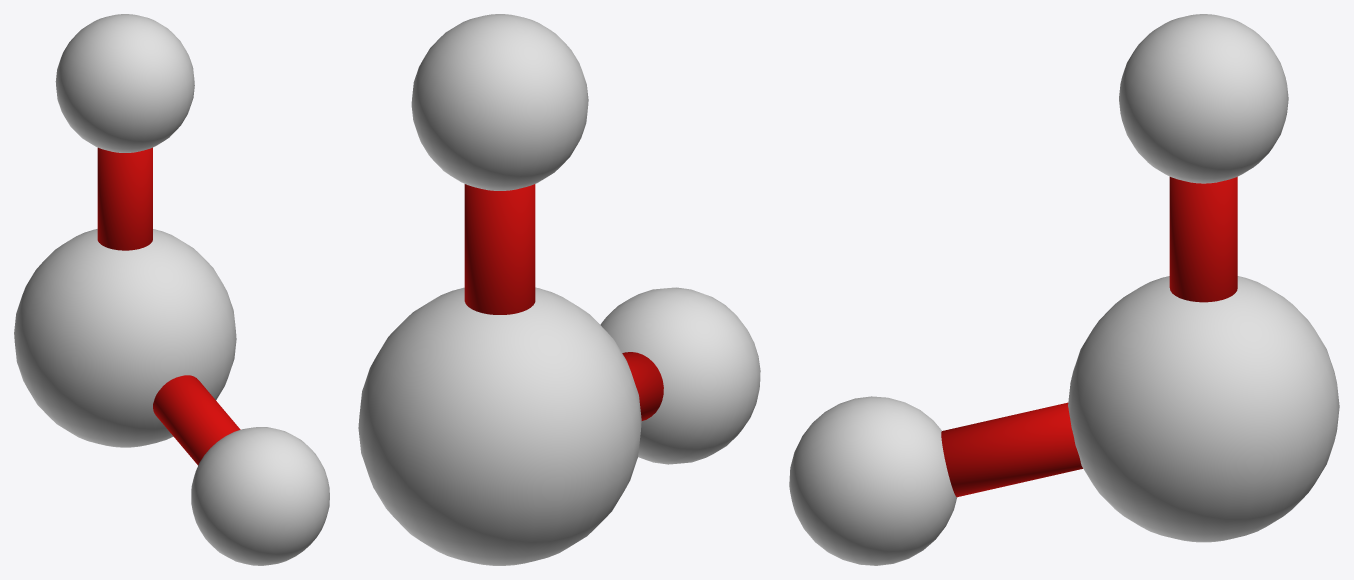
3 renders of one model, left to right at view 1: azimuth 30°, elevation 25°; view 2: azimuth 150°, elevation 25°; view 3: azimuth 270°, elevation 25°, orthographic. The views are drawn at different scales.
Visible parts, largest first — view 1: Sphere, H.001, H.002, bond.002, bond.001; view 2: Sphere, H.002, H.001, bond.002, bond.001; view 3: Sphere, H.002, H.001, bond.001, bond.002.
Part boxes in pixels (x1,y1,x2,y2): Sphere: [14, 229, 236, 447]; H.001: [191, 427, 329, 565]; H.002: [55, 14, 194, 152]; bond.002: [97, 147, 152, 250]; bond.001: [153, 375, 240, 465]; Sphere: [358, 287, 641, 565]; H.002: [411, 14, 588, 190]; H.001: [600, 287, 760, 464]; bond.002: [464, 184, 535, 314]; bond.001: [622, 352, 663, 420]; Sphere: [1068, 276, 1339, 542]; H.002: [1119, 14, 1288, 183]; H.001: [789, 396, 957, 565]; bond.001: [941, 402, 1082, 497]; bond.002: [1169, 177, 1237, 302].
Bounding box in the file's own units: 160 × 348 × 324.
